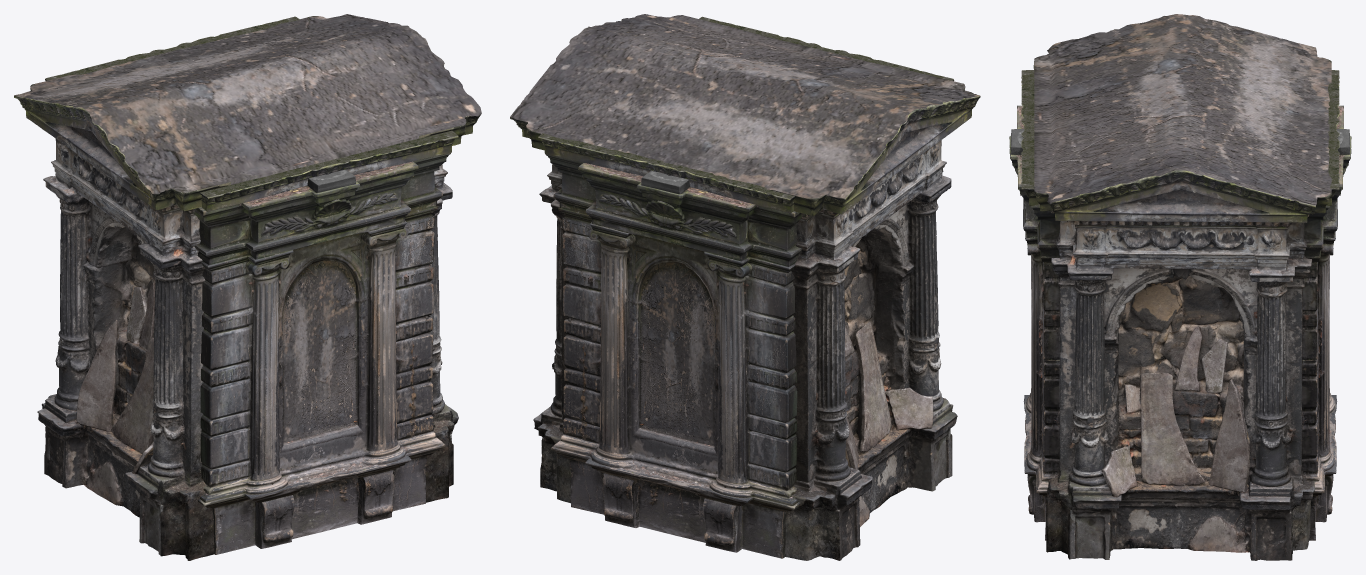
The model's file is sm_Grave_04_02.fbx.
3 renders of one model, left to right at view 1: azimuth 30°, elevation 25°; view 2: azimuth 150°, elevation 25°; view 3: azimuth 270°, elevation 25°, orthographic. The views are drawn at different scales.
Parts seen in each view (by area): view 1: sm_Grave_04_02_LOD0; view 2: sm_Grave_04_02_LOD0; view 3: sm_Grave_04_02_LOD0.
Boxes of the visible parts, left/top/right/bottom form: sm_Grave_04_02_LOD0: left=14, top=14, right=481, bottom=560; sm_Grave_04_02_LOD0: left=510, top=14, right=980, bottom=560; sm_Grave_04_02_LOD0: left=1009, top=14, right=1351, bottom=560.
Bounding box in the file's own units: 288 × 262 × 337.
